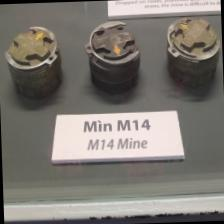M14: (164, 11, 224, 90), (4, 27, 68, 100), (89, 18, 144, 93)
